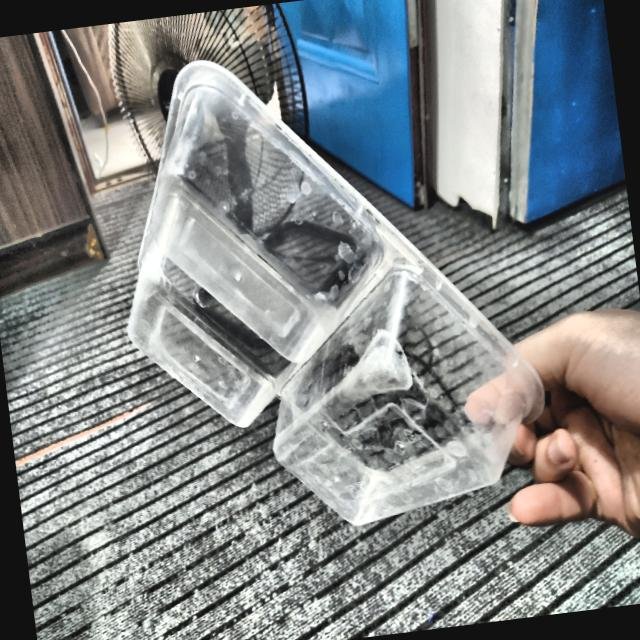plastic container: (127, 61, 543, 524)
